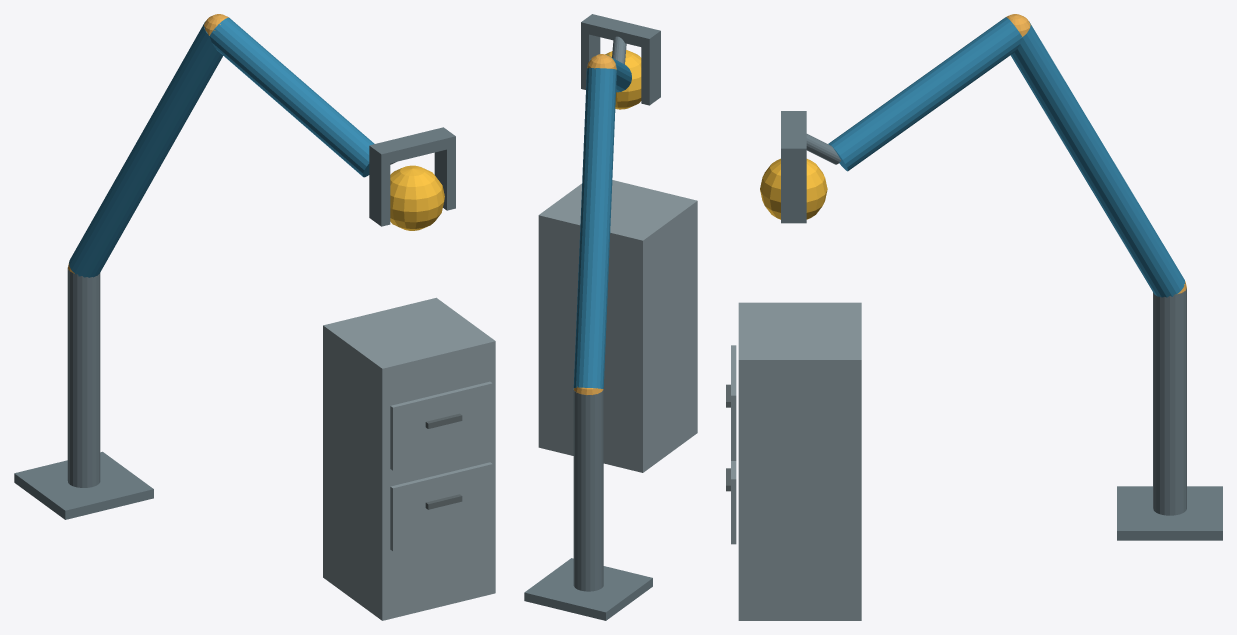
3 renders of one model, left to right at view 1: azimuth 30°, elevation 25°; view 2: azimuth 150°, elevation 25°; view 3: azimuth 270°, elevation 25°, orthographic. The views are drawn at different scales.
Visible parts, largest first — view 1: cabinet_1 body, moving link 1, fixed post, moving link 2, cabinet_1 drawer front.001, cabinet_1 drawer front, pedestal, ball ball_1, gripper bridge, gripper finger -1, gripper finger 1; view 2: cabinet_1 body, moving link 1, fixed post, pedestal, gripper bridge, gripper finger -1, ball ball_1, gripper finger 1, moving link 2, joint 2, gripper wrist connector; view 3: cabinet_1 body, moving link 1, moving link 2, fixed post, pedestal, ball ball_1, gripper finger 1, gripper bridge, cabinet_1 drawer front.001.
Boxes of the visible parts, left/top/right/bottom form: cabinet_1 body: left=323, top=297, right=495, bottom=620; moving link 1: left=69, top=21, right=222, bottom=277; fixed post: left=67, top=267, right=100, bottom=487; moving link 2: left=209, top=17, right=374, bottom=177; cabinet_1 drawer front.001: left=390, top=381, right=492, bottom=470; cabinet_1 drawer front: left=390, top=462, right=492, bottom=551; pedestal: left=14, top=451, right=153, bottom=519; ball ball_1: left=390, top=165, right=444, bottom=230; gripper bridge: left=369, top=127, right=455, bottom=165; gripper finger -1: left=369, top=157, right=390, bottom=226; gripper finger 1: left=434, top=147, right=455, bottom=210; cabinet_1 body: left=538, top=180, right=697, bottom=472; moving link 1: left=573, top=68, right=616, bottom=389; fixed post: left=573, top=389, right=603, bottom=591; pedestal: left=524, top=558, right=652, bottom=620; gripper bridge: left=581, top=14, right=660, bottom=49; gripper finger -1: left=641, top=41, right=660, bottom=105; ball ball_1: left=605, top=50, right=641, bottom=109; gripper finger 1: left=581, top=32, right=600, bottom=89; moving link 2: left=589, top=54, right=631, bottom=92; joint 2: left=587, top=54, right=616, bottom=69; gripper wrist connector: left=612, top=36, right=626, bottom=64; cabinet_1 body: left=738, top=302, right=861, bottom=620; moving link 1: left=1010, top=21, right=1185, bottom=297; moving link 2: left=828, top=17, right=1022, bottom=171; fixed post: left=1153, top=288, right=1186, bottom=515; pedestal: left=1117, top=486, right=1222, bottom=540; ball ball_1: left=760, top=158, right=827, bottom=219; gripper finger 1: left=781, top=160, right=806, bottom=223; gripper bridge: left=781, top=111, right=806, bottom=159; cabinet_1 drawer front.001: left=731, top=345, right=736, bottom=460.
Bounding box in the file's own units: 0.6992 × 1.39 × 1.17.
